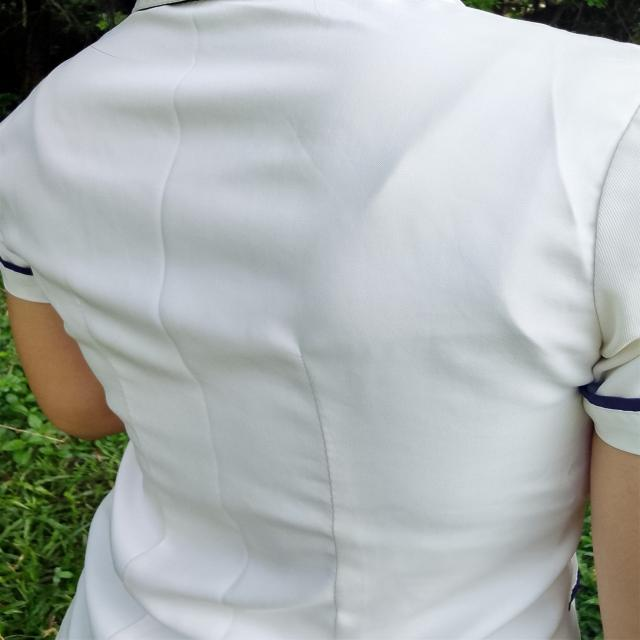education_female_uniform: (13, 1, 640, 614)
